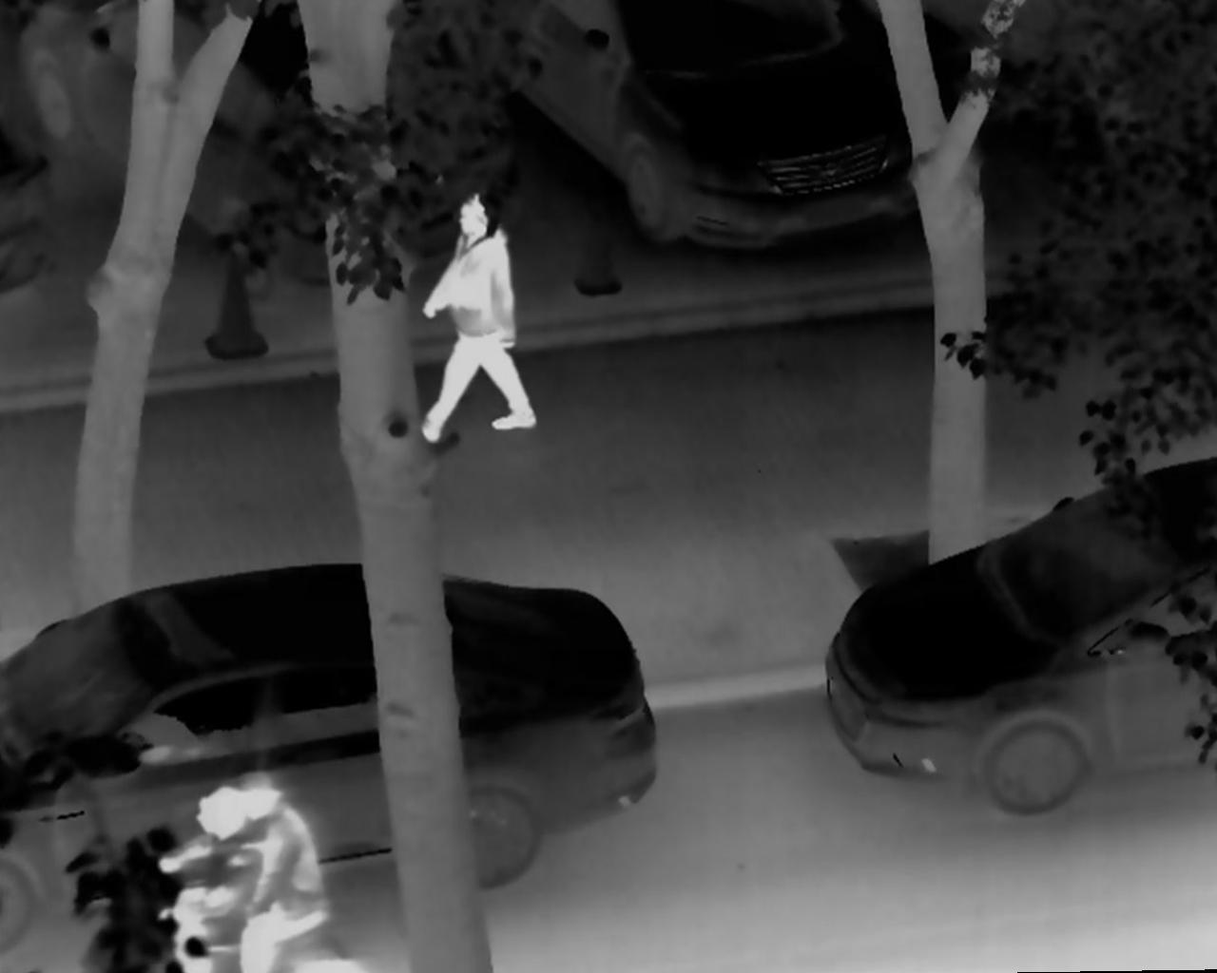person: (407, 185, 538, 442), (232, 747, 336, 973), (144, 778, 262, 973)
